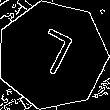L_SW: (26, 26, 78, 85)
